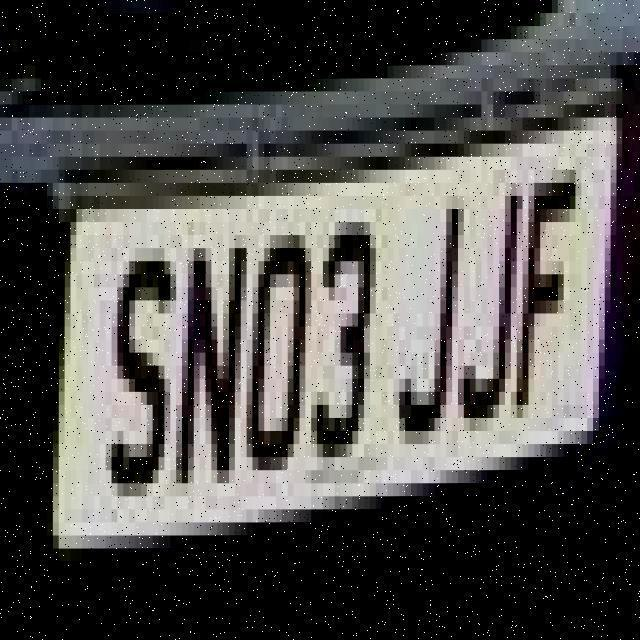LicensePlate: (52, 94, 617, 588)
